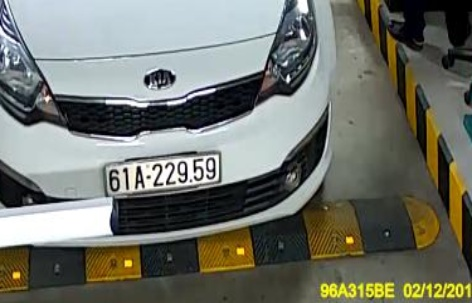plate: (99, 151, 226, 194)
